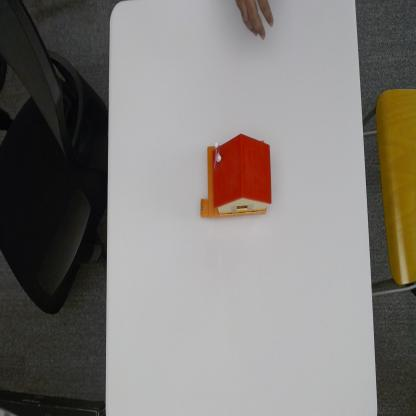Hand: (233, 0, 277, 42)
House: (199, 134, 272, 222)
